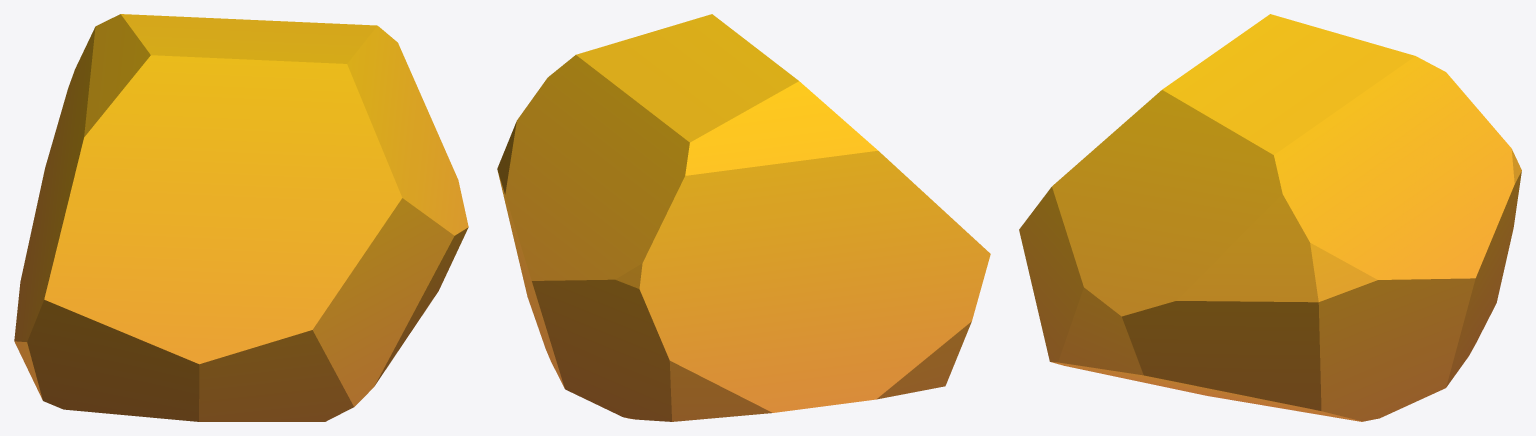
File: GoldNugget.fbx
3 views of the same model, side by side, from view 1: azimuth 30°, elevation 25°; view 2: azimuth 150°, elevation 25°; view 3: azimuth 270°, elevation 25° (orthographic). The views are drawn at different scales.
Parts seen in each view (by area): view 1: Rock_01; view 2: Rock_01; view 3: Rock_01.
Part boxes in pixels (left/top/right/bottom): Rock_01: left=14, top=14, right=468, bottom=421; Rock_01: left=497, top=14, right=990, bottom=421; Rock_01: left=1019, top=14, right=1521, bottom=421.
Size of the model in its own units: 143 by 107 by 139.
